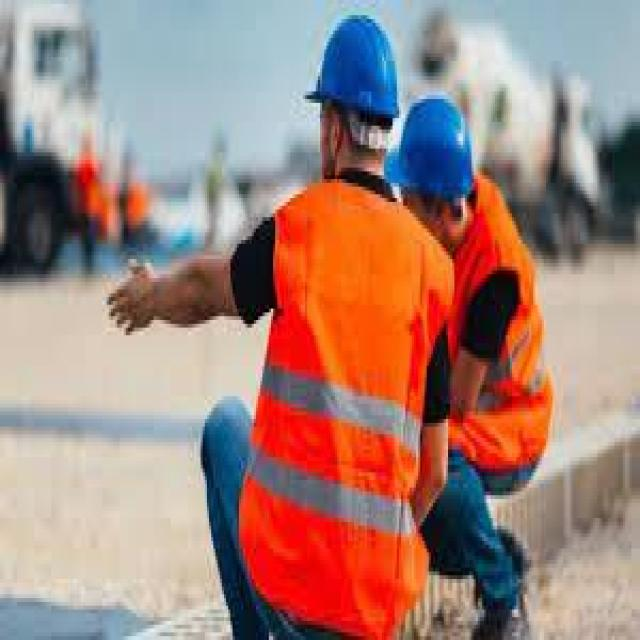vest: (266, 192, 419, 619), (440, 177, 561, 471)
